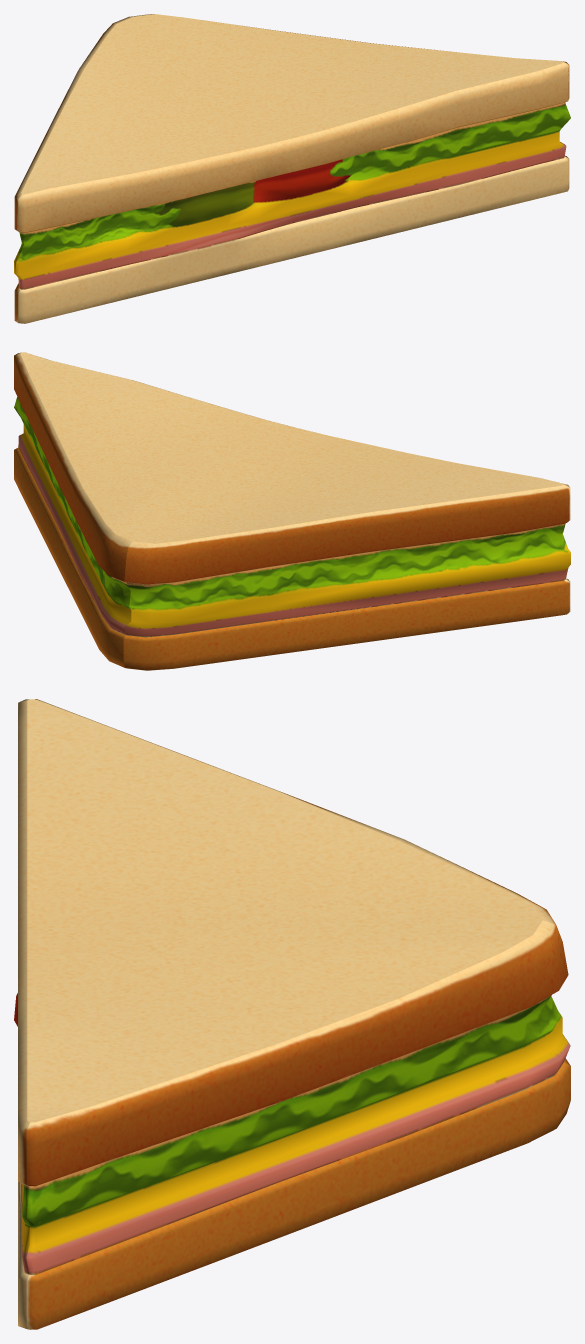
Rendered from Sandwich_1.fbx.
The picture shows the model from 3 angles, top to bottom: view 1: azimuth 30°, elevation 25°; view 2: azimuth 150°, elevation 25°; view 3: azimuth 270°, elevation 25°; orthographic projection. The views are drawn at different scales.
Parts seen in each view (by area): view 1: Sandwich_1; view 2: Sandwich_1; view 3: Sandwich_1.
Boxes of the visible parts, x1=… form: Sandwich_1: x1=14, y1=14, x2=570, y2=323; Sandwich_1: x1=14, y1=352, x2=570, y2=670; Sandwich_1: x1=14, y1=699, x2=570, y2=1329.
Bounding box in the file's own units: 76.11 × 16.96 × 41.26.
1 material, 1 textured.
